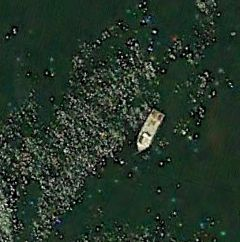boat: (136, 108, 166, 154)
